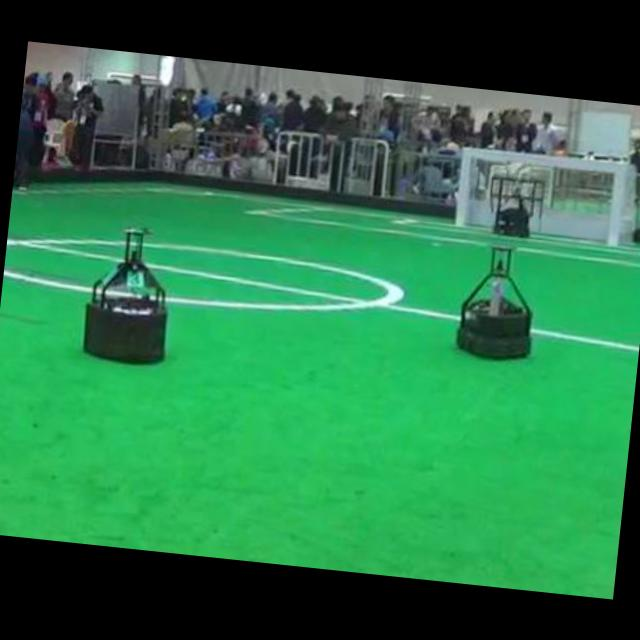goal: (606, 162, 627, 246), (455, 147, 472, 226)
robot: (83, 228, 165, 361), (456, 246, 530, 357), (489, 175, 544, 237)
